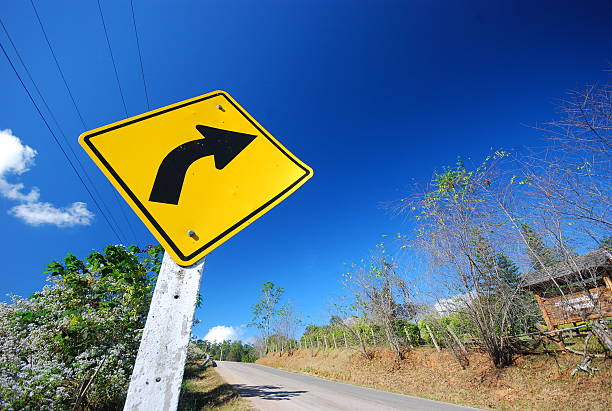right: (69, 42, 321, 411), (92, 76, 321, 250), (141, 94, 268, 234), (149, 108, 262, 210), (190, 109, 283, 193)
